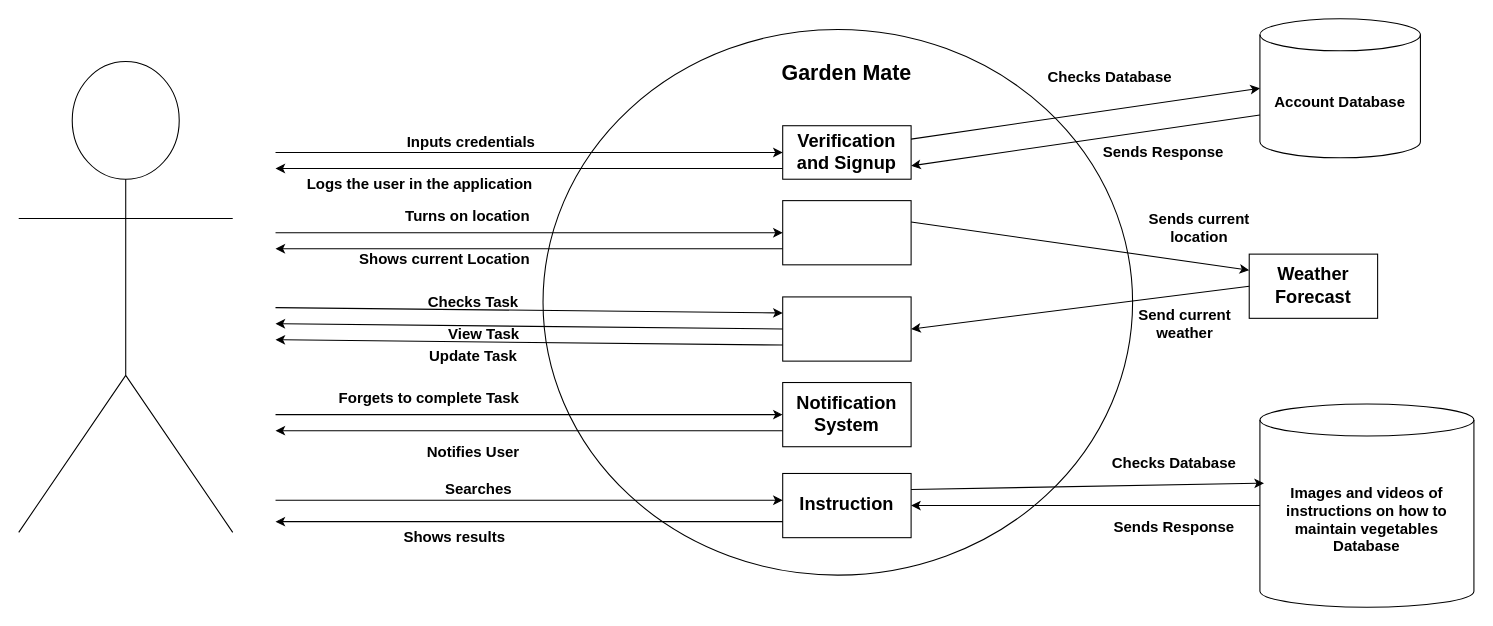
The diagram is 1493 pixels wide and 626 high, and some of its shapes have lost their labels. Each missing label, with the box of its shape:
Geolocation: (782, 200, 911, 265)
To-do-list: (782, 296, 911, 361)
User: (18, 60, 233, 532)
